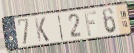2: (68, 13, 83, 40)
6: (102, 7, 117, 35)
7: (16, 17, 30, 47)
F: (84, 10, 98, 38)
I: (57, 13, 65, 42)
K: (33, 16, 50, 43)
